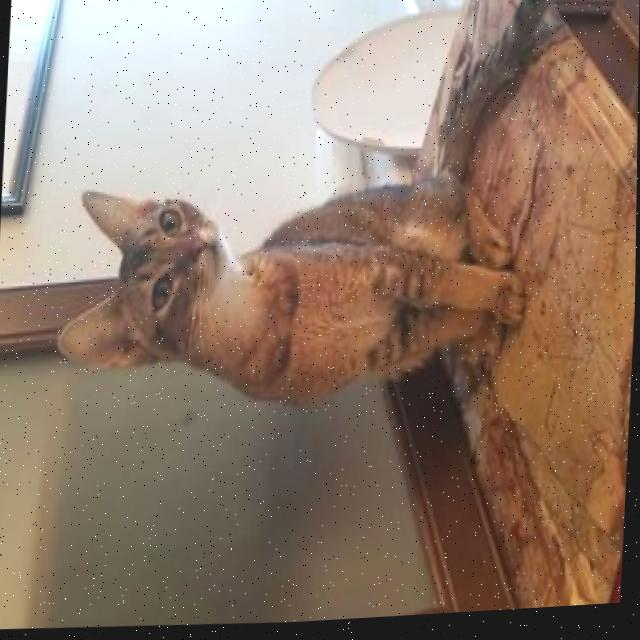Abyssinian: (47, 0, 569, 442)
